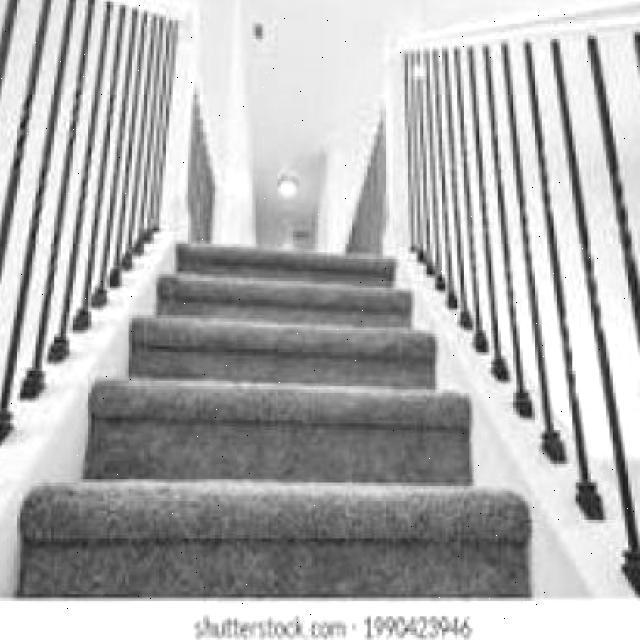stair: (36, 278, 501, 545)
